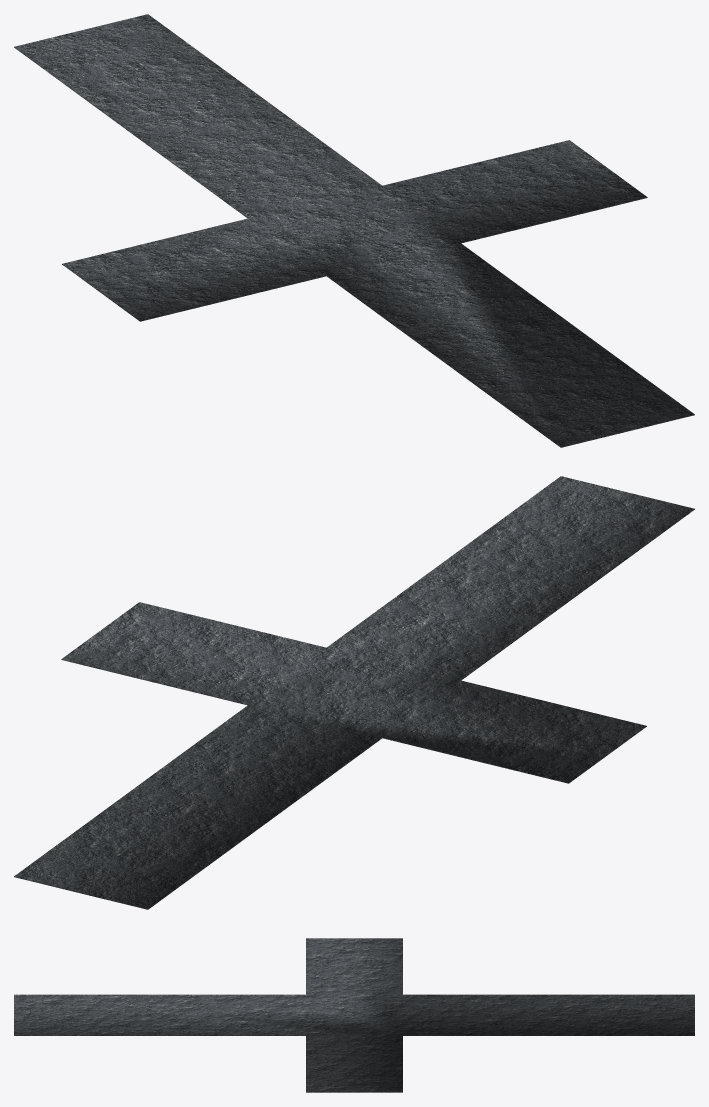
File: pav2.gltf
3 views of the same model, one above another, from view 1: azimuth 30°, elevation 25°; view 2: azimuth 150°, elevation 25°; view 3: azimuth 270°, elevation 25° (orthographic). The views are drawn at different scales.
Parts seen in each view (by area): view 1: Piano.021; view 2: Piano.021; view 3: Piano.021.
Boxes of the visible parts, x1,y1,x2,y2 form: Piano.021: [14, 14, 694, 447]; Piano.021: [14, 476, 694, 909]; Piano.021: [14, 938, 694, 1092].
Size of the model in its own units: 15 by 0.0193 by 28.
1 material, 1 textured.
